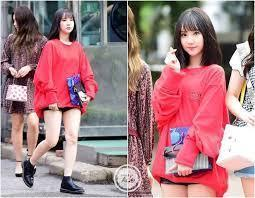dress: (0, 26, 50, 115)
sweater: (149, 61, 231, 190), (27, 36, 102, 116)
